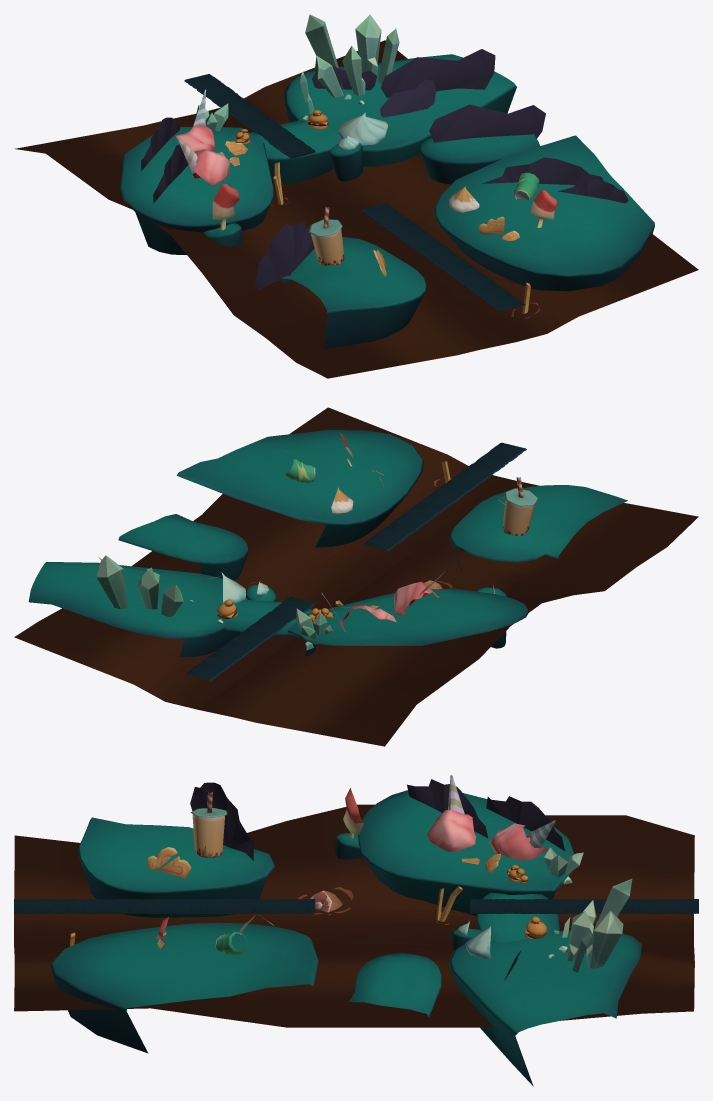
The model's file is stg3_D.gltf.
3 views of the same model, one above another, from view 1: azimuth 30°, elevation 25°; view 2: azimuth 150°, elevation 25°; view 3: azimuth 270°, elevation 25° (orthographic). The views are drawn at different scales.
Visible parts, largest first — view 1: land_GEO:PIV, island_GEO20:PIV, island_GEO16:PIV, island_GEO15:PIV, island_GEO22:PIV, pathbroke_GEO2:PIV, crystal_gate_GEO2:PIV, island_GEO21:PIV, bush_GEO11:PIV, bush_GEO10:PIV, island_GEO17:PIV, bush_GEO4:PIV (+14 smaller); view 2: land_GEO:PIV, island_GEO20:PIV, island_GEO22:PIV, island_GEO16:PIV, island_GEO15:PIV, pathbroke_GEO2:PIV, island_GEO21:PIV, crystal_gate_GEO2:PIV, bbt_GEO3:PIV, island_GEO17:PIV, fallencottoncandy_low_GEO2:PIV, crystal_GEO1:PIV; view 3: land_GEO:PIV, island_GEO20:PIV, island_GEO22:PIV, island_GEO16:PIV, island_GEO15:PIV, pathbroke_GEO2:PIV, island_GEO21:PIV, crystal_gate_GEO2:PIV, island_GEO17:PIV, fallencottoncandy_low_GEO2:PIV, bush_GEO4:PIV, fallencottoncandy_low_GEO4:PIV (+8 smaller).
Part boxes in pixels (x1=…): land_GEO:PIV: x1=15, y1=40, x2=698, y2=378; island_GEO20:PIV: x1=434, y1=135, x2=654, y2=291; island_GEO16:PIV: x1=120, y1=127, x2=273, y2=254; island_GEO15:PIV: x1=281, y1=237, x2=426, y2=349; island_GEO22:PIV: x1=284, y1=54, x2=516, y2=166; pathbroke_GEO2:PIV: x1=184, y1=74, x2=525, y2=311; crystal_gate_GEO2:PIV: x1=300, y1=14, x2=399, y2=120; island_GEO21:PIV: x1=419, y1=134, x2=539, y2=184; bush_GEO11:PIV: x1=381, y1=49, x2=495, y2=97; bush_GEO10:PIV: x1=429, y1=104, x2=545, y2=142; island_GEO17:PIV: x1=250, y1=120, x2=341, y2=183; bush_GEO4:PIV: x1=254, y1=221, x2=314, y2=289; land_GEO:PIV: x1=14, y1=407, x2=698, y2=746; island_GEO20:PIV: x1=176, y1=430, x2=423, y2=547; island_GEO22:PIV: x1=28, y1=562, x2=247, y2=657; island_GEO16:PIV: x1=287, y1=588, x2=528, y2=645; island_GEO15:PIV: x1=449, y1=485, x2=627, y2=571; pathbroke_GEO2:PIV: x1=185, y1=442, x2=526, y2=680; island_GEO21:PIV: x1=118, y1=514, x2=248, y2=580; crystal_gate_GEO2:PIV: x1=96, y1=555, x2=223, y2=623; bbt_GEO3:PIV: x1=503, y1=477, x2=538, y2=535; island_GEO17:PIV: x1=216, y1=599, x2=316, y2=656; fallencottoncandy_low_GEO2:PIV: x1=394, y1=571, x2=445, y2=615; crystal_GEO1:PIV: x1=296, y1=608, x2=332, y2=650; land_GEO:PIV: x1=14, y1=804, x2=694, y2=1027; island_GEO20:PIV: x1=50, y1=922, x2=318, y2=1053; island_GEO22:PIV: x1=449, y1=930, x2=642, y2=1086; island_GEO16:PIV: x1=358, y1=790, x2=573, y2=915; island_GEO15:PIV: x1=78, y1=817, x2=274, y2=917; pathbroke_GEO2:PIV: x1=14, y1=899, x2=698, y2=913; island_GEO21:PIV: x1=349, y1=953, x2=441, y2=1016; crystal_gate_GEO2:PIV: x1=548, y1=879, x2=632, y2=972; island_GEO17:PIV: x1=477, y1=892, x2=559, y2=942; fallencottoncandy_low_GEO2:PIV: x1=427, y1=775, x2=476, y2=851; bush_GEO4:PIV: x1=190, y1=782, x2=253, y2=860; fallencottoncandy_low_GEO4:PIV: x1=488, y1=820, x2=555, y2=860.
Size of the model in its own units: 16481 by 4454 by 20980.
Materials: 9 (8 with a texture image).
